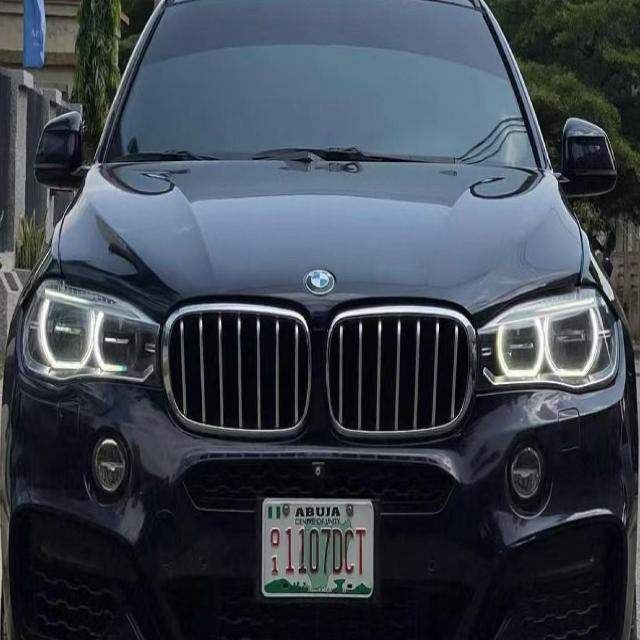Nigerian License Plate - vdataset benjamin-daria: (260, 492, 378, 606)
